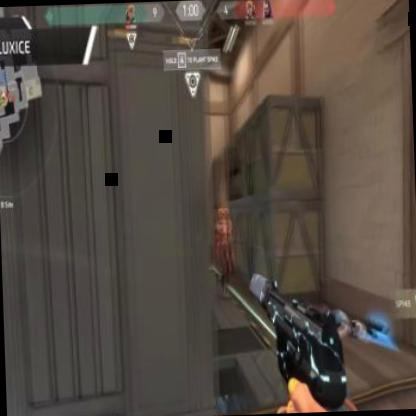enemy: (215, 210, 234, 297)
enemy_head: (219, 207, 226, 220)
